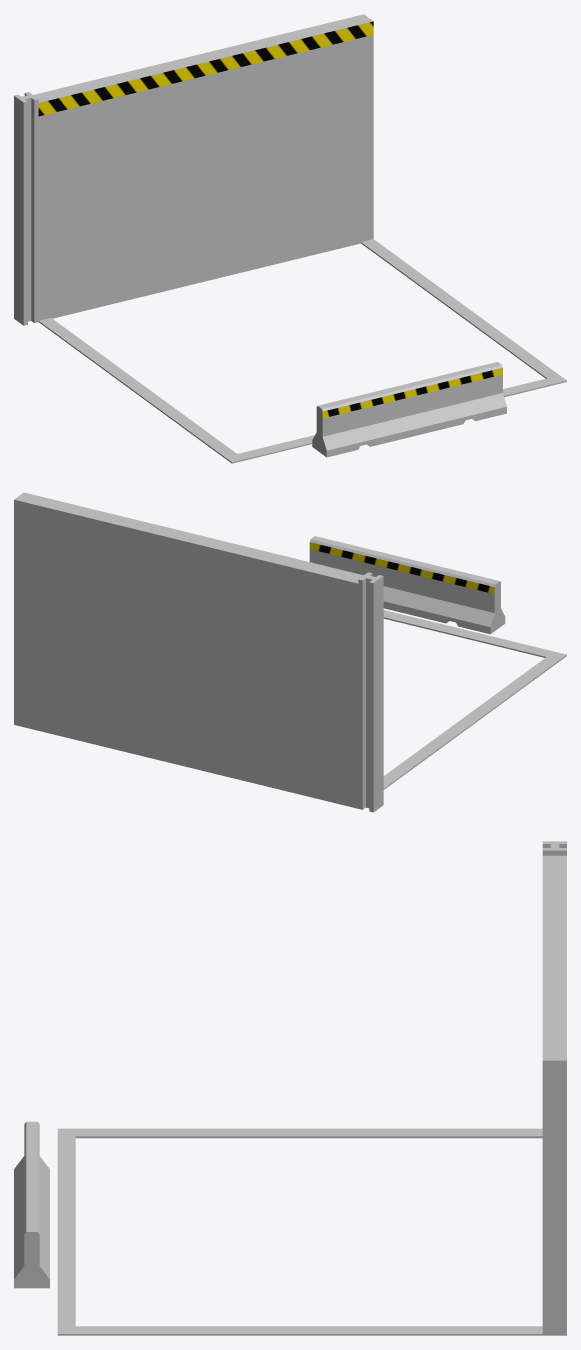
File: Zone.fbx
3 views of the same model, one above another, from view 1: azimuth 30°, elevation 25°; view 2: azimuth 150°, elevation 25°; view 3: azimuth 270°, elevation 25° (orthographic). The views are drawn at different scales.
Parts seen in each view (by area): view 1: ZoneWall, Stopper, WhiteLine, ZoneMetalProfile; view 2: ZoneWall, Stopper, ZoneMetalProfile, WhiteLine; view 3: WhiteLine, ZoneWall, Stopper.
Part boxes in pixels (<box>): ZoneWall: <box>33,14,373,320</box>; Stopper: <box>312,362,506,457</box>; WhiteLine: <box>38,239,566,463</box>; ZoneMetalProfile: <box>14,92,38,325</box>; ZoneWall: <box>14,492,363,808</box>; Stopper: <box>309,536,505,634</box>; ZoneMetalProfile: <box>358,572,383,812</box>; WhiteLine: <box>383,610,566,789</box>; WhiteLine: <box>57,1128,542,1335</box>; ZoneWall: <box>542,855,566,1335</box>; Stopper: <box>14,1121,49,1288</box>.
Bounding box in the file's own units: 4.18 × 4.56 × 2.55.
